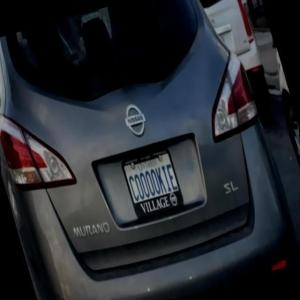Plate: (120, 147, 185, 219)
